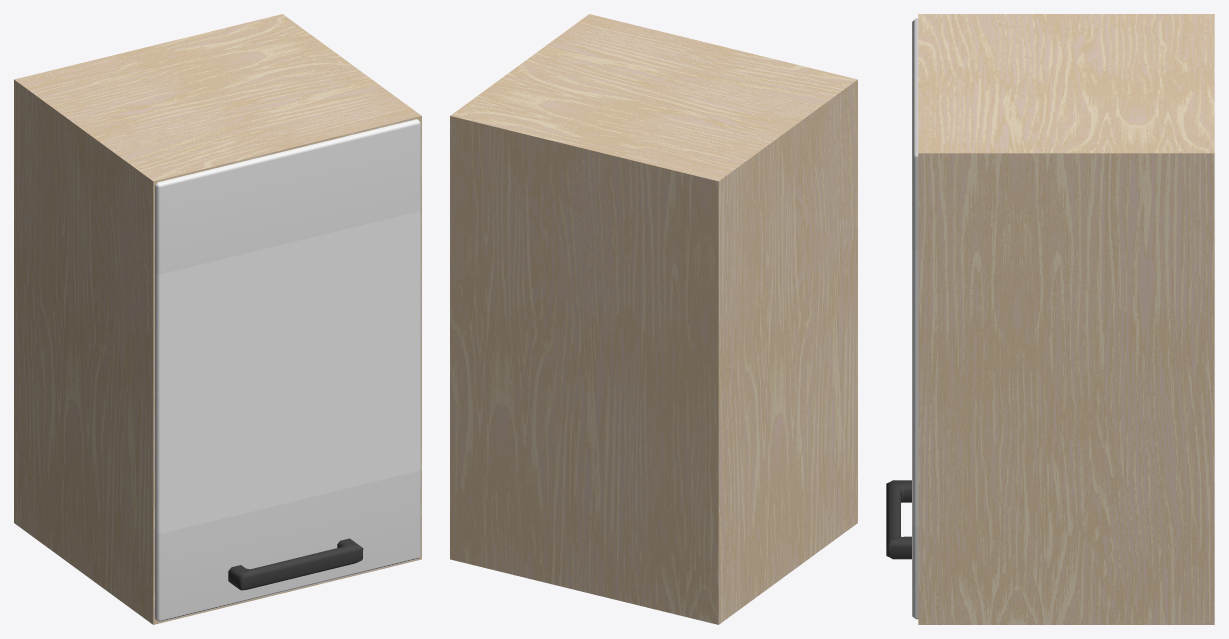
The model's file is kitchen_035.fbx.
3 renders of one model, left to right at view 1: azimuth 30°, elevation 25°; view 2: azimuth 150°, elevation 25°; view 3: azimuth 270°, elevation 25°, orthographic. The views are drawn at different scales.
Visible parts, largest first — view 1: kitchen_035; view 2: kitchen_035; view 3: kitchen_035.
Part boxes in pixels (x1,y1,x2,y2): kitchen_035: (14,14,421,624); kitchen_035: (450,14,857,624); kitchen_035: (886,14,1214,624).
Size of the model in its own units: 66.43 by 66.07 by 105.
